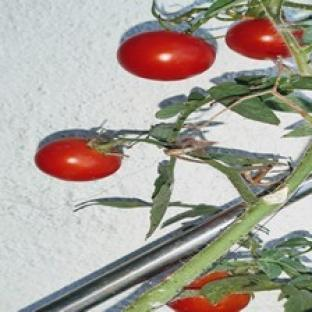Tomato: (117, 31, 215, 80), (35, 137, 121, 181), (226, 19, 291, 59), (168, 294, 250, 311)
